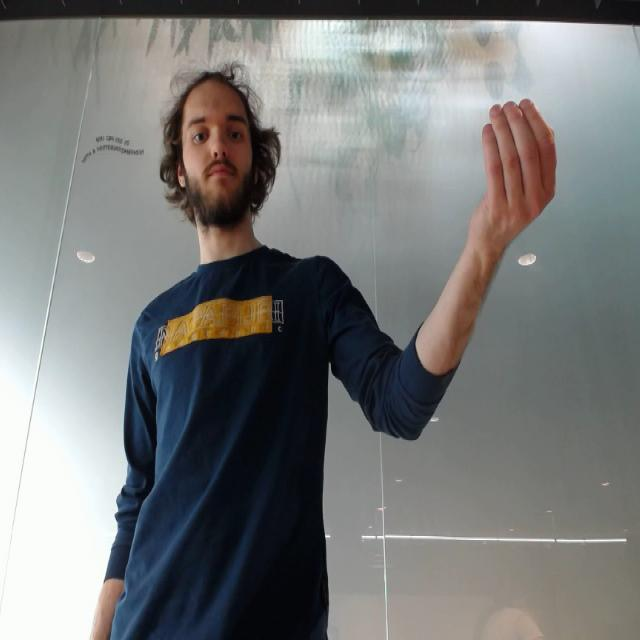forward: (472, 95, 560, 248)
